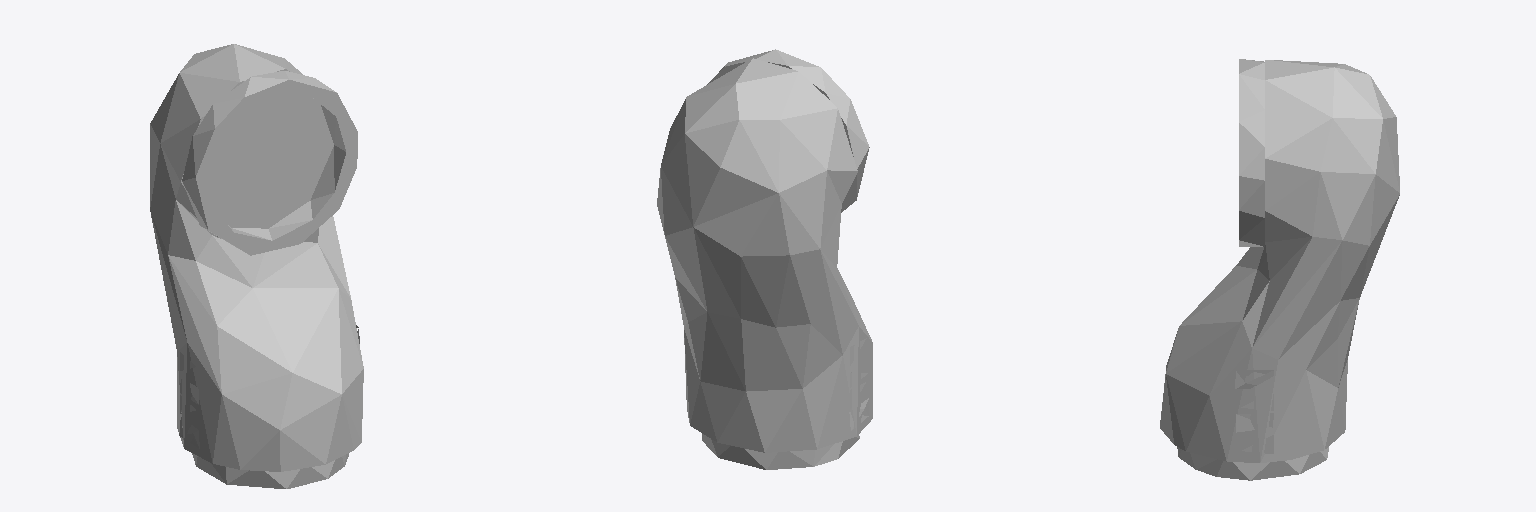
File: col-kuka-link3.obj
3 renders of one model, left to right at view 1: azimuth 30°, elevation 25°; view 2: azimuth 150°, elevation 25°; view 3: azimuth 270°, elevation 25°, orthographic.
Size of the model in its own units: 122 by 271 by 155.